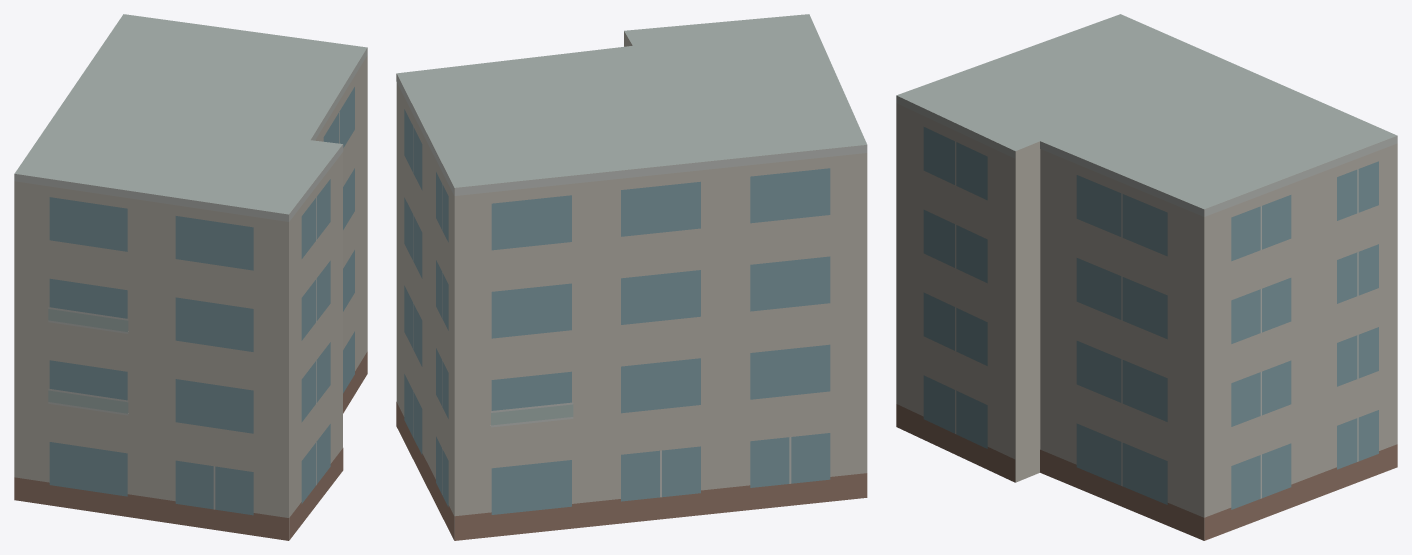
Rendered from survey-upis-32923528.glb.
3 views of the same model, side by side, from view 1: azimuth 30°, elevation 25°; view 2: azimuth 150°, elevation 25°; view 3: azimuth 270°, elevation 25° (orthographic). The views are drawn at different scales.
Visible parts, largest first — view 1: survey-upis-32923528.tmp; view 2: survey-upis-32923528.tmp; view 3: survey-upis-32923528.tmp.
Part boxes in pixels (left/top/right/bottom): survey-upis-32923528.tmp: left=14, top=14, right=367, bottom=540; survey-upis-32923528.tmp: left=396, top=14, right=867, bottom=540; survey-upis-32923528.tmp: left=896, top=14, right=1397, bottom=540.
Size of the model in its own units: 13.34 by 10.55 by 14.47.
